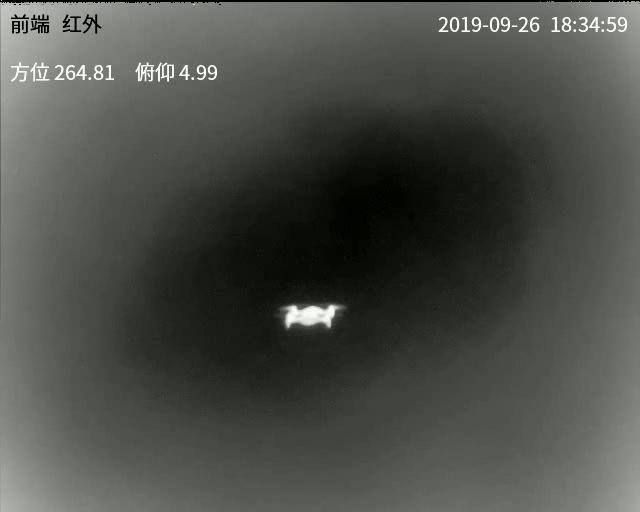DRONE: (280, 303, 341, 330)
